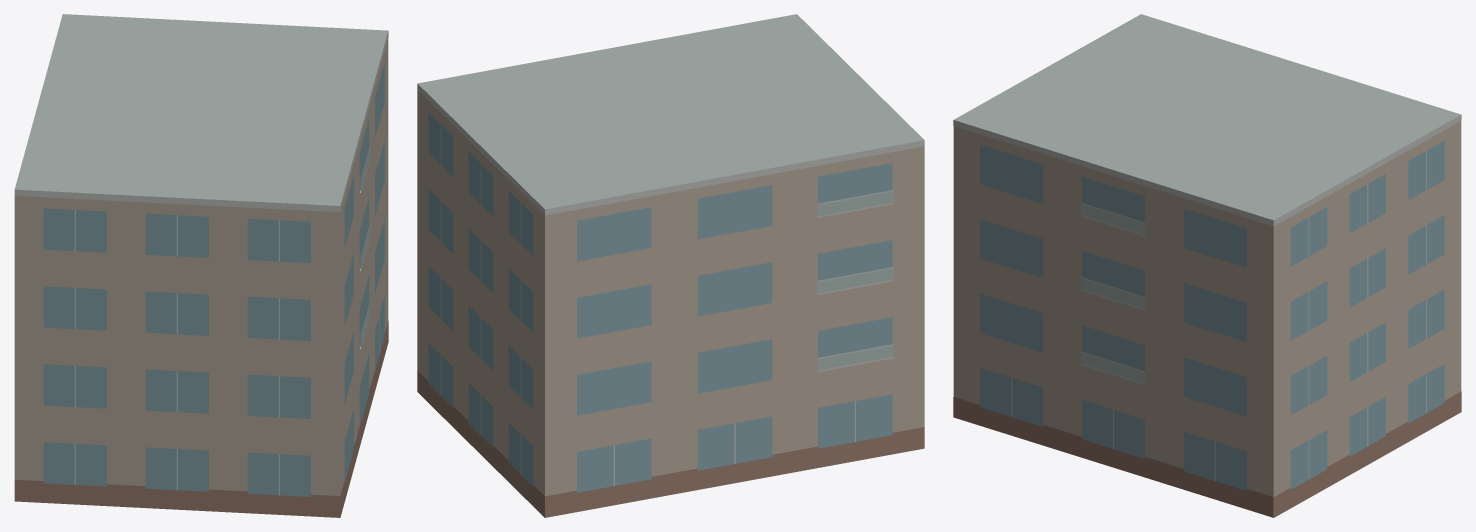
File: survey-upis-32824424.glb
3 views of the same model, side by side, from view 1: azimuth 30°, elevation 25°; view 2: azimuth 150°, elevation 25°; view 3: azimuth 270°, elevation 25° (orthographic). The views are drawn at different scales.
Parts seen in each view (by area): view 1: survey-upis-32824424.tmp; view 2: survey-upis-32824424.tmp; view 3: survey-upis-32824424.tmp.
Boxes of the visible parts, x1,y1,x2,y2 form: survey-upis-32824424.tmp: (14, 14, 388, 517); survey-upis-32824424.tmp: (417, 14, 924, 517); survey-upis-32824424.tmp: (953, 14, 1461, 517).
Size of the model in its own units: 18.16 by 12.2 by 18.89.
